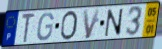3: (125, 5, 143, 39)
G: (36, 12, 55, 42)
N: (104, 8, 124, 38)
O: (59, 9, 79, 41)
T: (21, 13, 36, 45)
V: (82, 7, 102, 41)
